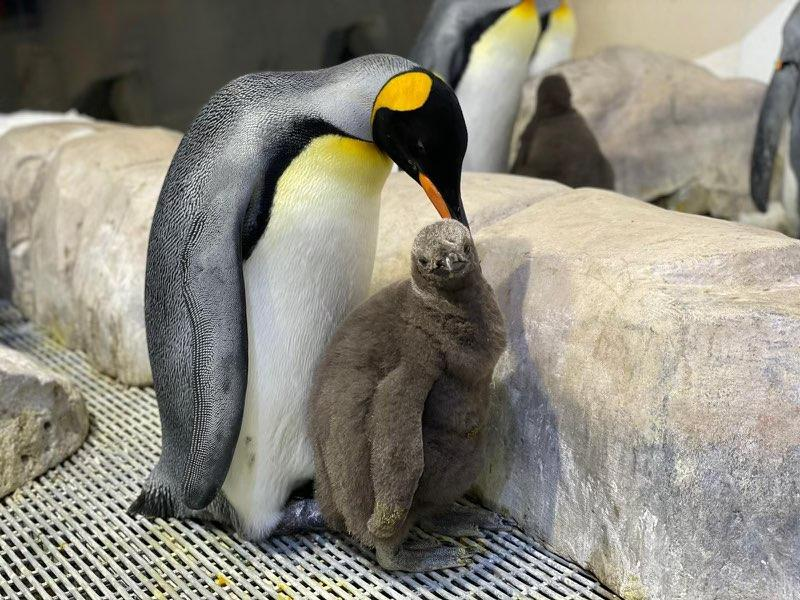king: (95, 30, 514, 548)
